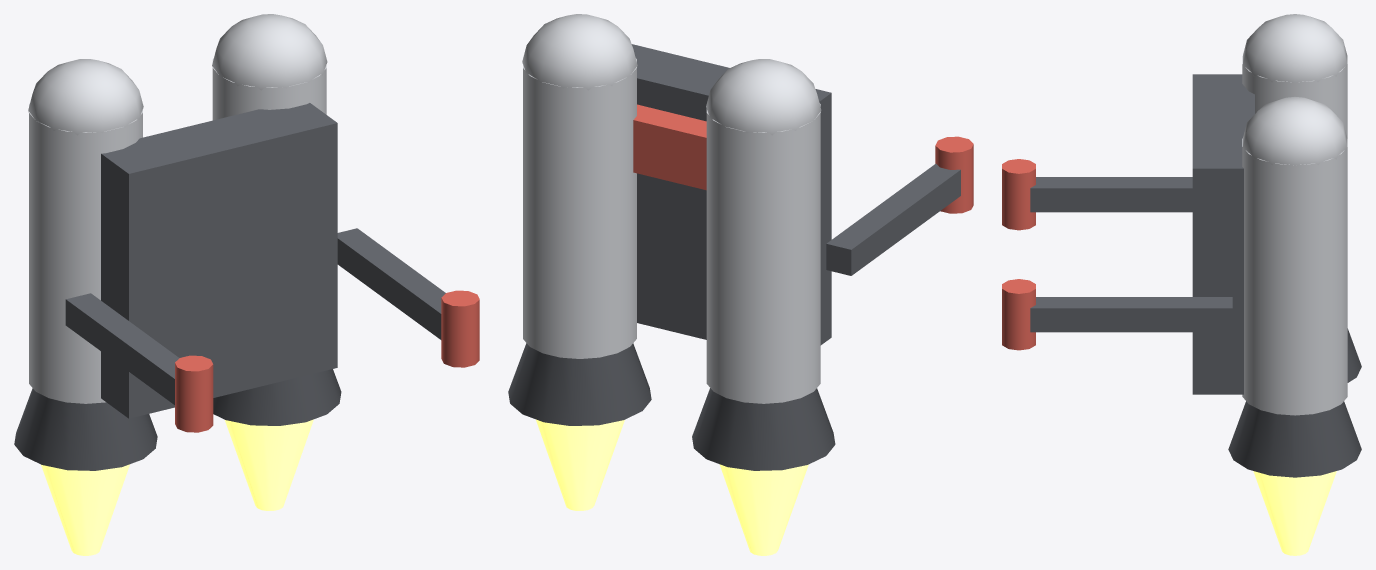
File: gear_jetpack.glb
The picture shows the model from 3 angles, left to right: view 1: azimuth 30°, elevation 25°; view 2: azimuth 150°, elevation 25°; view 3: azimuth 270°, elevation 25°; orthographic projection. The views are drawn at different scales.
Visible parts, largest first — view 1: JetpackRoot; view 2: JetpackRoot; view 3: JetpackRoot.
Part boxes in pixels (x1,y1,x2,y2): JetpackRoot: [14, 14, 479, 555]; JetpackRoot: [508, 14, 973, 555]; JetpackRoot: [1002, 14, 1361, 555].
Bounding box in the file's own units: 0.74 × 1.11 × 0.808.
